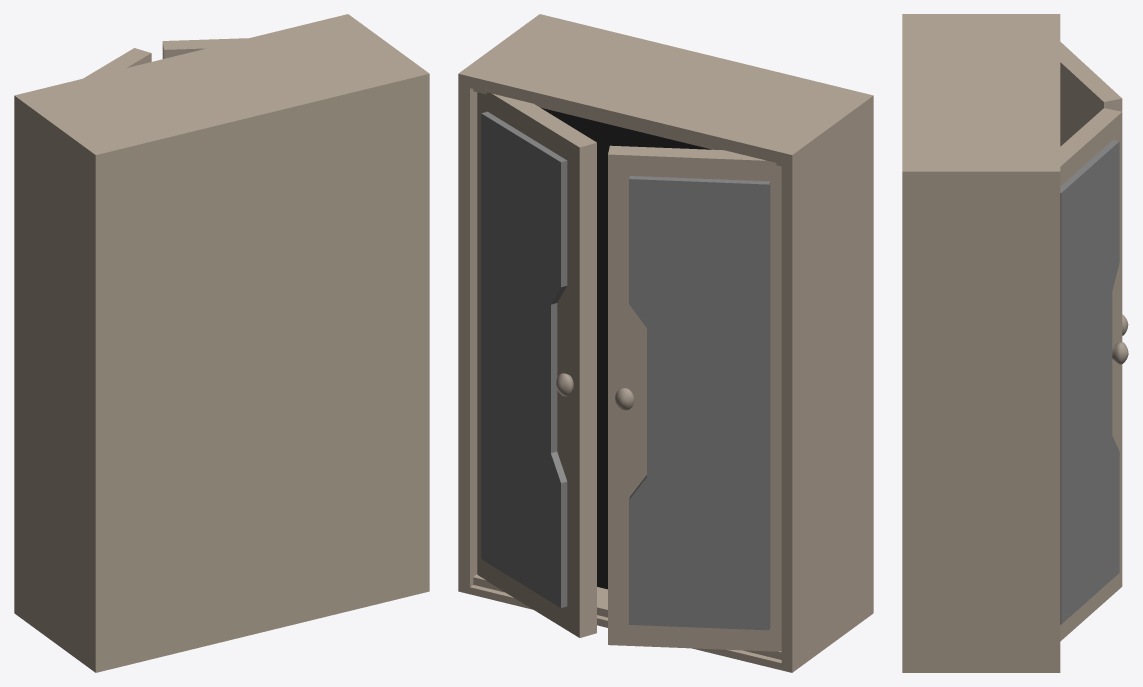
Rendered from Armoire4_4.fbx.
3 renders of one model, left to right at view 1: azimuth 30°, elevation 25°; view 2: azimuth 150°, elevation 25°; view 3: azimuth 270°, elevation 25°, orthographic. The views are drawn at different scales.
Visible parts, largest first — view 1: pCube1045, pCube1049, pCube1048; view 2: pCube1045, pCube1047, pCube1046, pCube1048, pCube1049, pCube1044; view 3: pCube1045, pCube1046, pCube1049, pCube1048.
Boxes of the visible parts, x1,y1,x2,y2 form: pCube1045: [14, 14, 429, 672]; pCube1049: [162, 38, 247, 58]; pCube1048: [83, 48, 151, 78]; pCube1045: [458, 14, 873, 672]; pCube1047: [629, 176, 770, 630]; pCube1046: [481, 111, 567, 607]; pCube1048: [608, 145, 781, 651]; pCube1049: [477, 92, 596, 637]; pCube1044: [540, 107, 711, 589]; pCube1045: [902, 14, 1060, 672]; pCube1046: [1060, 140, 1119, 624]; pCube1049: [1060, 108, 1122, 641]; pCube1048: [1060, 42, 1122, 146].
Size of the model in its own units: 83 by 123 by 50.29.
